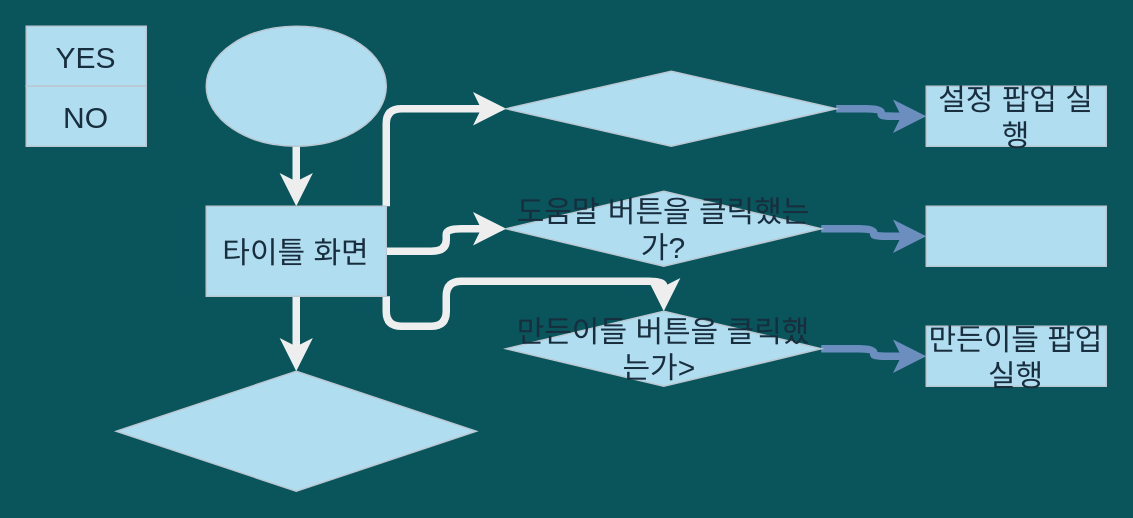
This 1133x518 diagram has some shape labels left out. The box of each missing label's shape, as (x1, y1, x2, y2) in pixels:
게임시작 버튼을 클릭했는가?: (115, 370, 476, 491)
게임실행: (205, 25, 386, 146)
도움말 팝업 실행: (925, 205, 1106, 266)
설정 버튼을 클릭했는가?: (505, 70, 836, 146)
